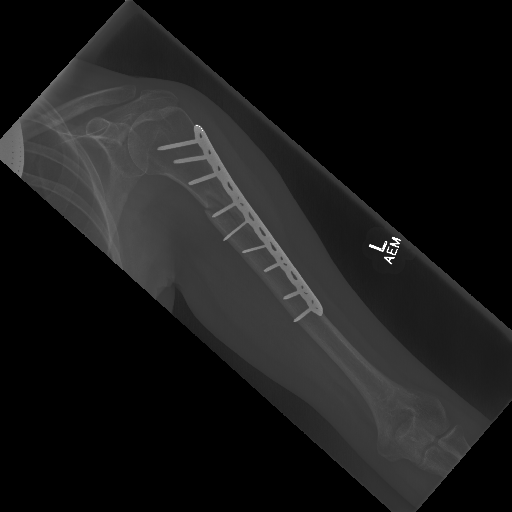implant: (158, 122, 324, 322)
